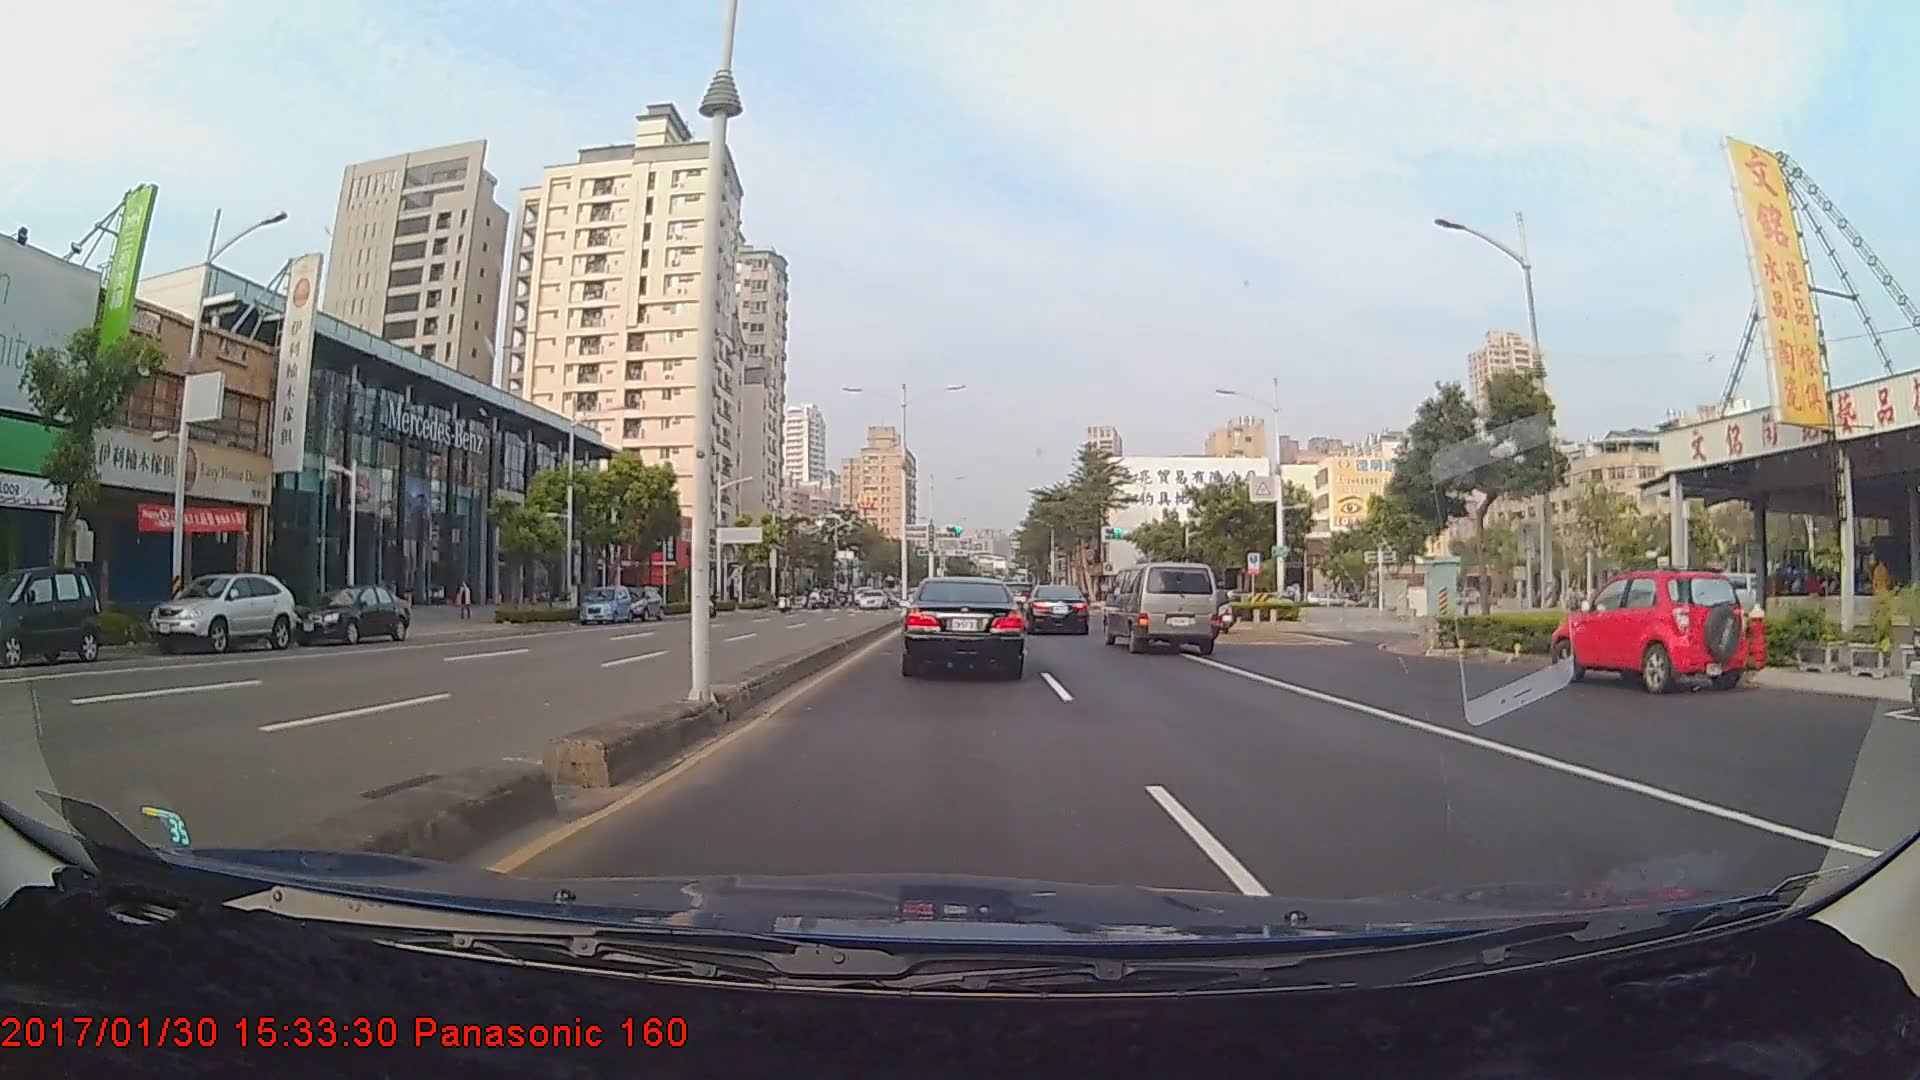pedestrian: (1872, 557, 1893, 636), (455, 579, 475, 622)
vehicle: (1568, 570, 1742, 694), (903, 575, 1023, 676), (147, 568, 293, 652), (0, 562, 100, 666), (1104, 562, 1219, 653), (286, 583, 411, 645), (1023, 583, 1090, 637), (579, 584, 633, 624), (619, 586, 658, 621), (859, 586, 888, 608)
